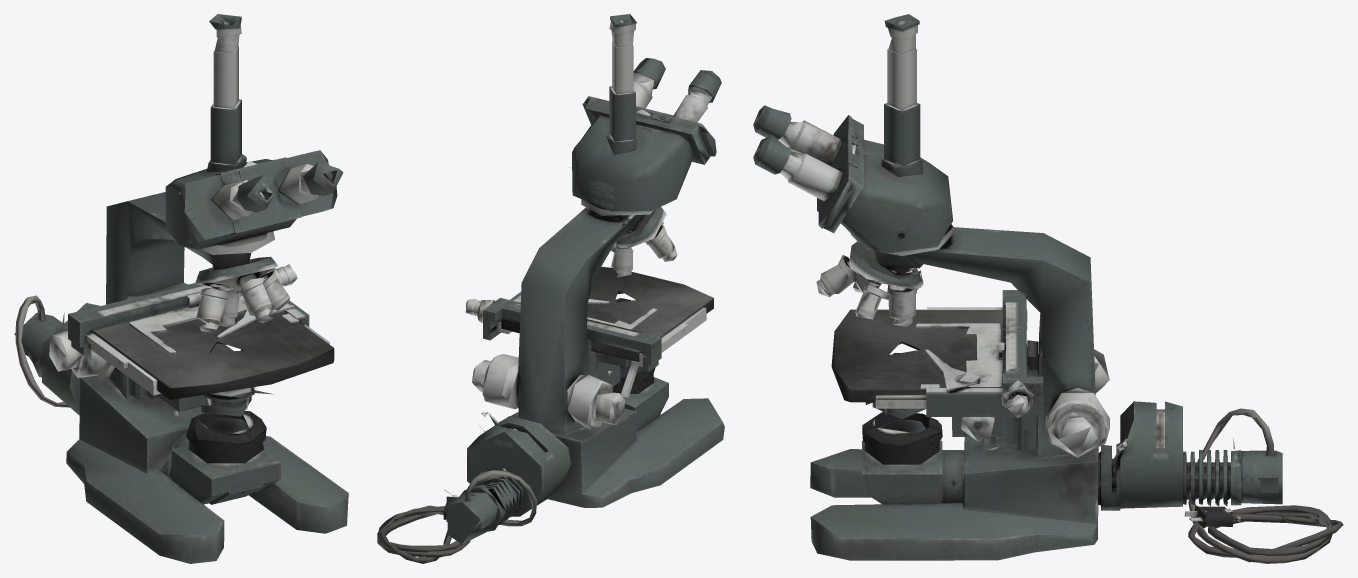
The model's file is industrial_microscope.glb.
The picture shows the model from 3 angles, left to right: view 1: azimuth 30°, elevation 25°; view 2: azimuth 150°, elevation 25°; view 3: azimuth 270°, elevation 25°; orthographic projection. The views are drawn at different scales.
Visible parts, largest first — view 1: industrial_microscope, industrial_microscope_cable; view 2: industrial_microscope, industrial_microscope_cable; view 3: industrial_microscope, industrial_microscope_cable.
Part boxes in pixels (x1,y1,x2,y2): industrial_microscope: (14, 14, 348, 563); industrial_microscope_cable: (15, 295, 69, 407); industrial_microscope: (444, 14, 724, 544); industrial_microscope_cable: (377, 470, 536, 563); industrial_microscope: (753, 14, 1282, 560); industrial_microscope_cable: (1184, 408, 1343, 563).
Bounding box in the file's own units: 0.2145 × 0.4617 × 0.4981.
1 material, 1 textured.
